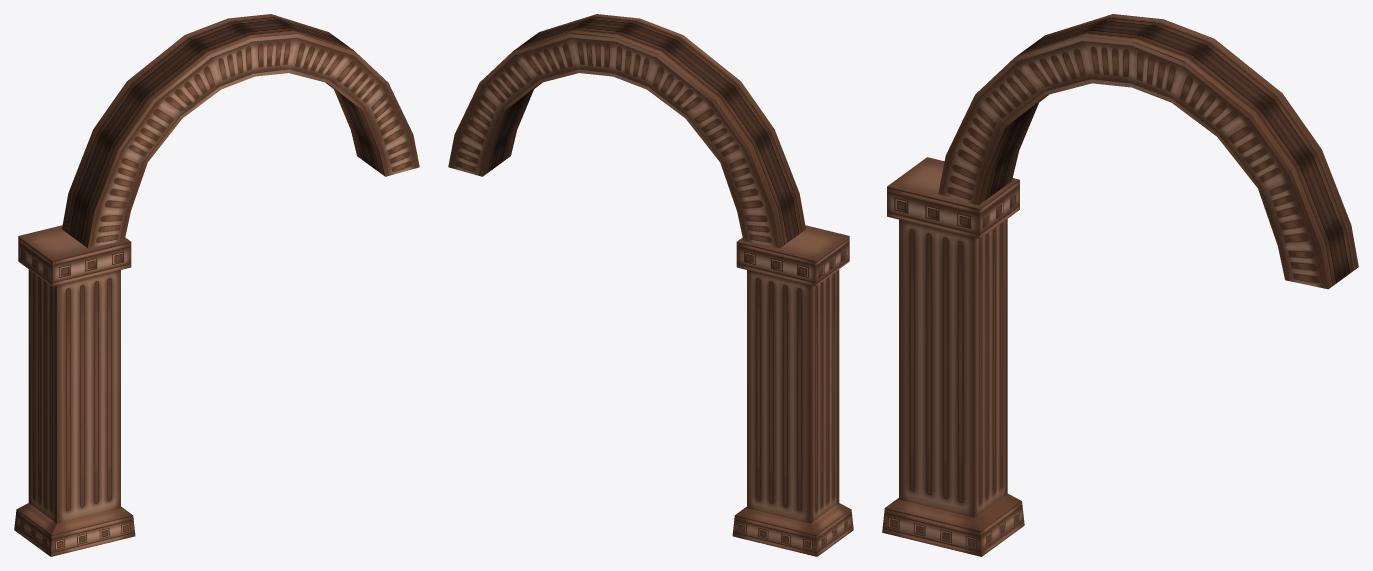
File: ArchWall.FBX
3 views of the same model, side by side, from view 1: azimuth 30°, elevation 25°; view 2: azimuth 150°, elevation 25°; view 3: azimuth 330°, elevation 25° (orthographic). The views are drawn at different scales.
Parts seen in each view (by area): view 1: Arco; view 2: Arco; view 3: Arco.
Part boxes in pixels (box(x1,y1,x2,y2)): Arco: box(14, 14, 419, 556); Arco: box(448, 14, 853, 556); Arco: box(882, 14, 1358, 556).
Bounding box in the file's own units: 1.99 × 0.3363 × 2.36.
